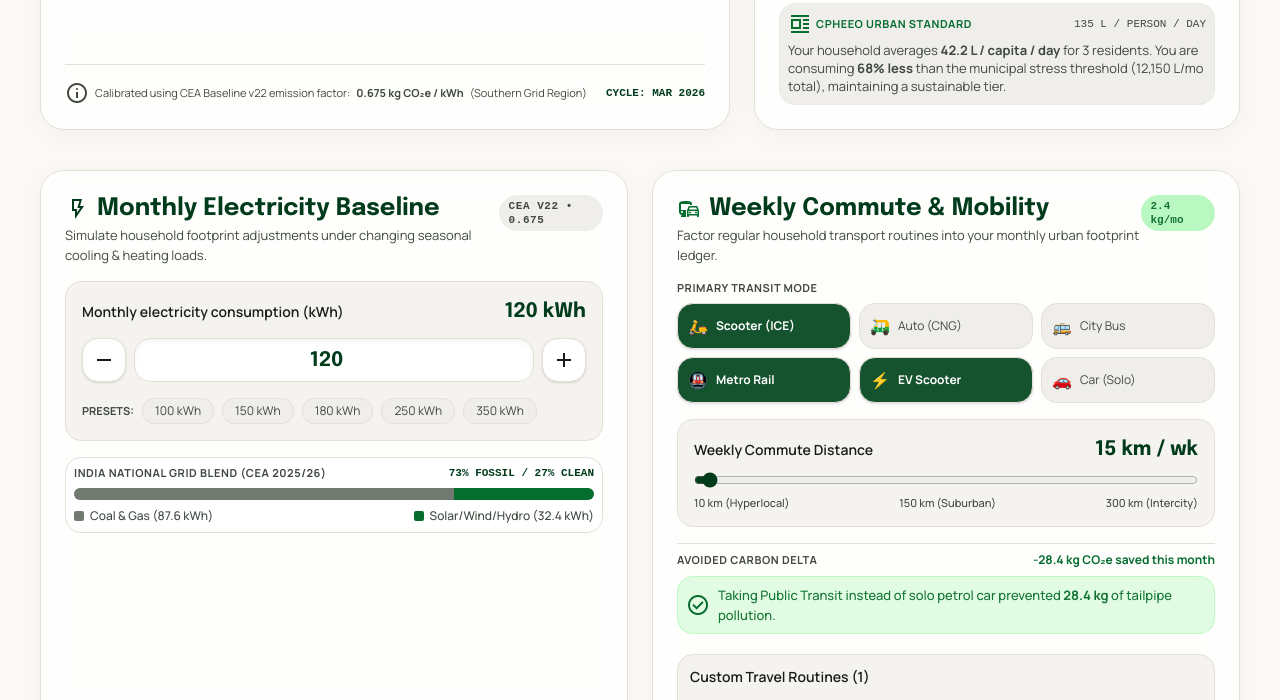
Test: FootprintScreen Component & Accessibility › updates carbon calculation dynamically when electricity input changes
(page scrolled)
Step 1. Replace the text in the number field labelled "Monthly electricity consumption (kWh)" with "200" → (334, 360), box [134, 338, 534, 382]
(page scrolled)
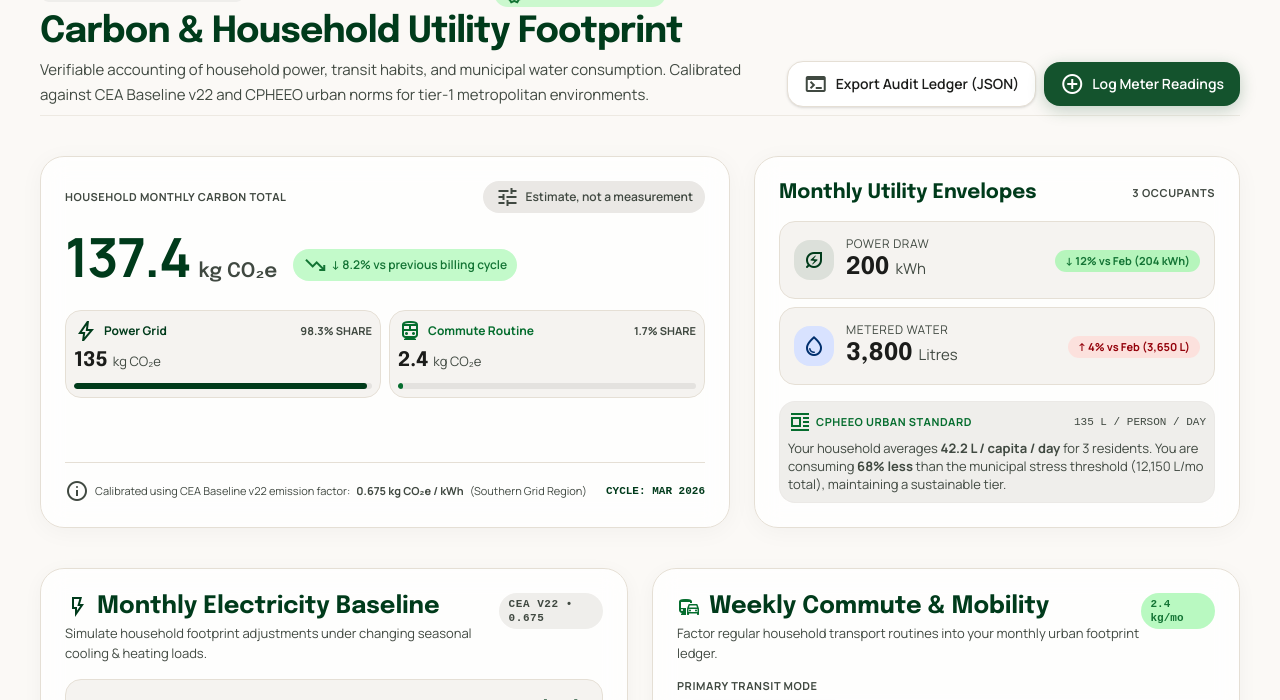
Expected: the text "135" is shown, [74, 350, 108, 371]
